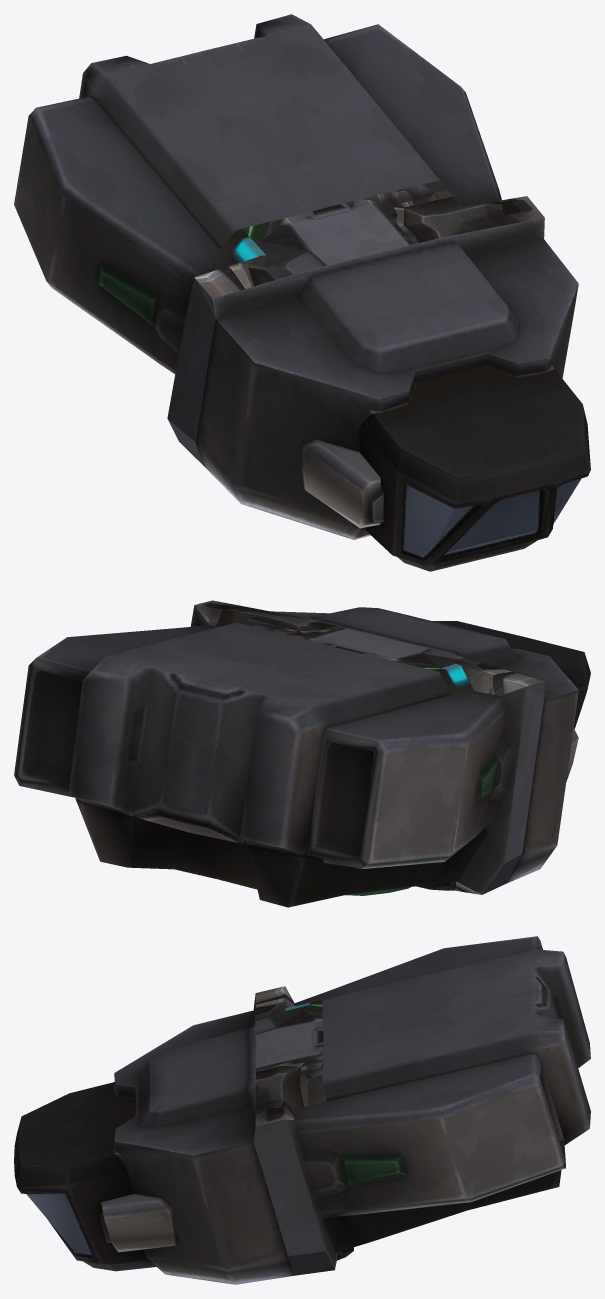
Rendered from Airfield_m10_real.fbx.
3 views of the same model, one above another, from view 1: azimuth 30°, elevation 25°; view 2: azimuth 150°, elevation 25°; view 3: azimuth 270°, elevation 25° (orthographic). The views are drawn at different scales.
Visible parts, largest first — view 1: littleShuttle5; view 2: littleShuttle5; view 3: littleShuttle5.
Part boxes in pixels (x1=…): littleShuttle5: x1=14, y1=14, x2=590, y2=571; littleShuttle5: x1=14, y1=600, x2=590, y2=907; littleShuttle5: x1=14, y1=936, x2=590, y2=1284.
Size of the model in its own units: 0.1325 by 0.1982 by 0.0979.
